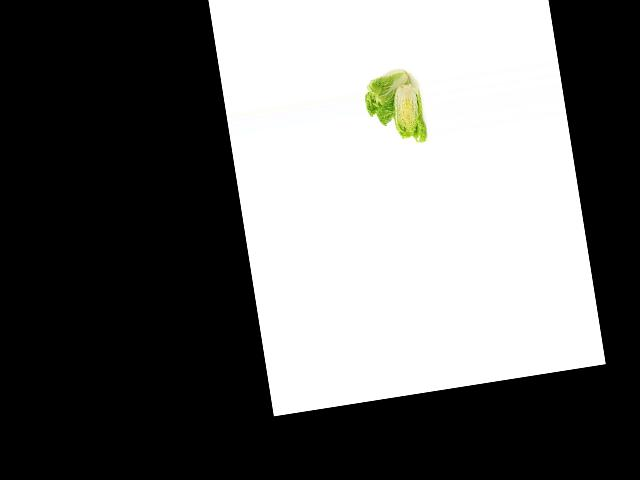lettuce: (358, 65, 420, 131)
